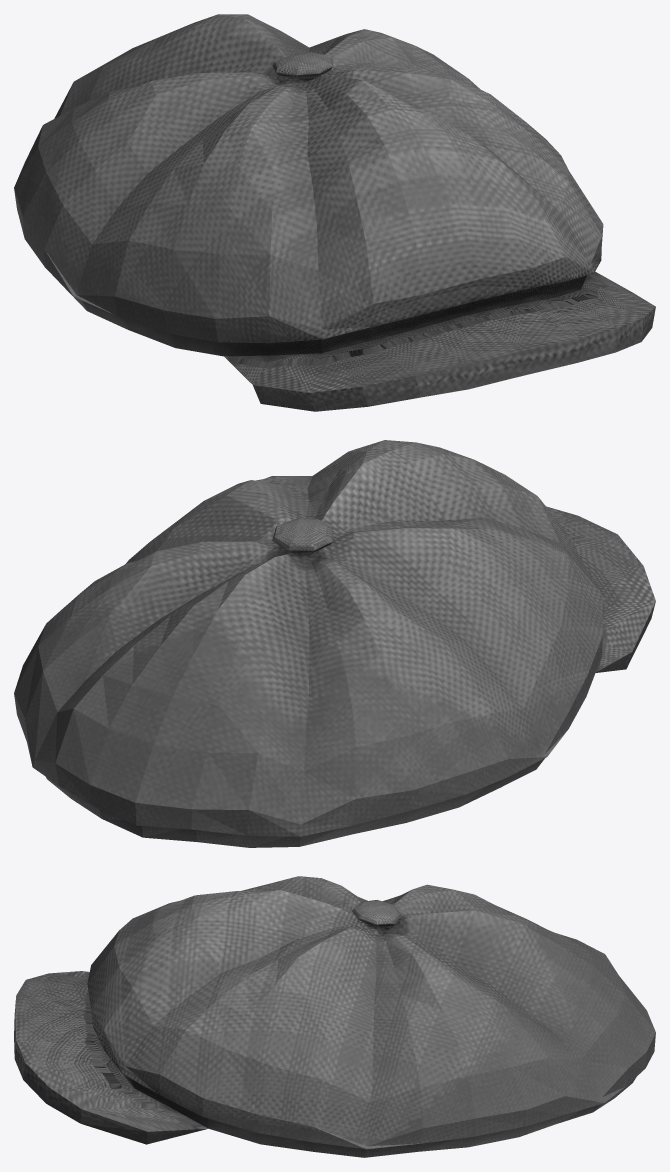
Rendered from mhw_jujube_newsboy_cap.glb.
3 views of the same model, one above another, from view 1: azimuth 30°, elevation 25°; view 2: azimuth 150°, elevation 25°; view 3: azimuth 270°, elevation 25° (orthographic). The views are drawn at different scales.
Visible parts, largest first — view 1: mhw_jujube_newsboy_cap; view 2: mhw_jujube_newsboy_cap; view 3: mhw_jujube_newsboy_cap.
Boxes of the visible parts, <box> form: mhw_jujube_newsboy_cap: <box>14,14,655,411</box>; mhw_jujube_newsboy_cap: <box>14,440,655,847</box>; mhw_jujube_newsboy_cap: <box>14,876,655,1157</box>.
Size of the model in its own units: 0.1877 by 0.0833 by 0.2667.
Materials: 1 (1 with a texture image).
